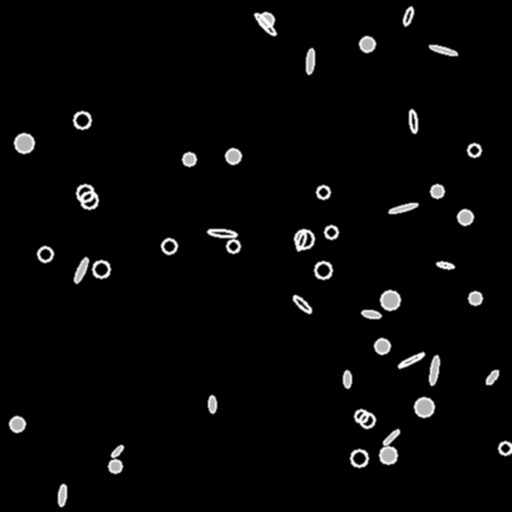pseudomonas: (253, 11, 277, 37), (397, 351, 425, 369), (73, 256, 89, 284), (291, 294, 313, 314), (388, 202, 418, 214), (429, 44, 457, 56), (382, 428, 400, 446), (429, 356, 439, 384), (208, 228, 236, 238), (484, 369, 500, 385), (305, 49, 315, 73), (402, 6, 414, 26), (295, 231, 307, 251), (408, 110, 418, 132), (57, 484, 67, 506), (361, 309, 381, 319), (110, 444, 124, 458), (343, 370, 351, 388), (208, 395, 216, 413), (436, 261, 454, 269)
synechocystis: (15, 134, 33, 152), (381, 291, 399, 309), (295, 230, 313, 248), (415, 398, 433, 416), (93, 261, 109, 277), (74, 112, 90, 128), (81, 192, 97, 208), (315, 262, 331, 278), (77, 185, 93, 201), (351, 450, 367, 466), (380, 447, 396, 463), (375, 339, 389, 353), (360, 413, 374, 427), (10, 417, 24, 431), (38, 247, 52, 261), (360, 37, 374, 51), (162, 239, 176, 253), (259, 13, 273, 27), (226, 149, 240, 163), (458, 210, 472, 224), (499, 442, 511, 454), (317, 186, 329, 198), (227, 240, 239, 252), (468, 144, 480, 156), (355, 410, 367, 422), (469, 292, 481, 304), (183, 153, 195, 165), (431, 185, 443, 197), (325, 226, 337, 238), (109, 460, 121, 472)
